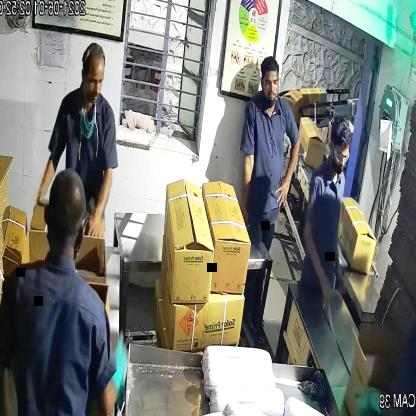goggles: (326, 143, 357, 169)
no_goggles: (79, 69, 109, 91)
